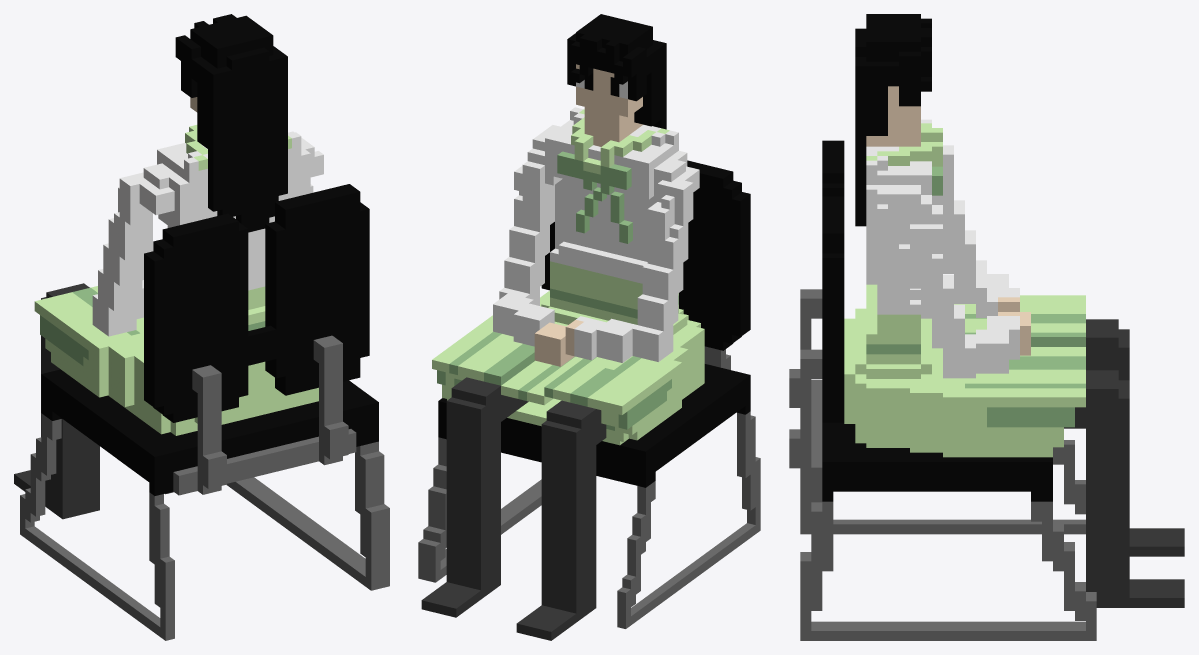
The model's file is a girl.obj.
The picture shows the model from 3 angles, left to right: view 1: azimuth 30°, elevation 25°; view 2: azimuth 150°, elevation 25°; view 3: azimuth 270°, elevation 25°; orthographic projection. The views are drawn at different scales.
Visible parts, largest first — view 1: a girl; view 2: a girl; view 3: a girl.
Part boxes in pixels (<box>): a girl: <box>14,14,389,640</box>; a girl: <box>418,14,760,640</box>; a girl: <box>789,14,1184,640</box>.
Bounding box in the file's own units: 24 × 56 × 36.
Materials: 1 (1 with a texture image).
